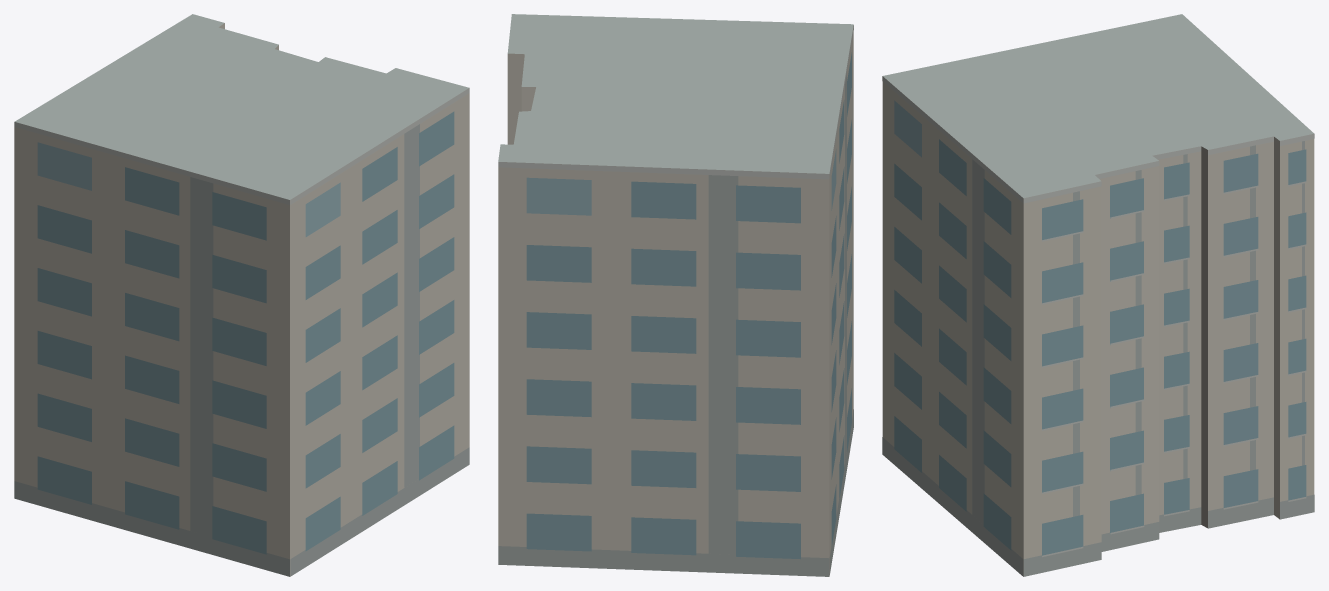
File: survey-upis-33011273.glb
3 renders of one model, left to right at view 1: azimuth 30°, elevation 25°; view 2: azimuth 150°, elevation 25°; view 3: azimuth 270°, elevation 25°, orthographic. The views are drawn at different scales.
Visible parts, largest first — view 1: survey-upis-33011273.tmp; view 2: survey-upis-33011273.tmp; view 3: survey-upis-33011273.tmp.
Boxes of the visible parts, left/top/right/bottom form: survey-upis-33011273.tmp: left=14, top=14, right=469, bottom=576; survey-upis-33011273.tmp: left=498, top=14, right=853, bottom=576; survey-upis-33011273.tmp: left=882, top=14, right=1314, bottom=576.
Bounding box in the file's own units: 18.6 × 17.8 × 18.42.
